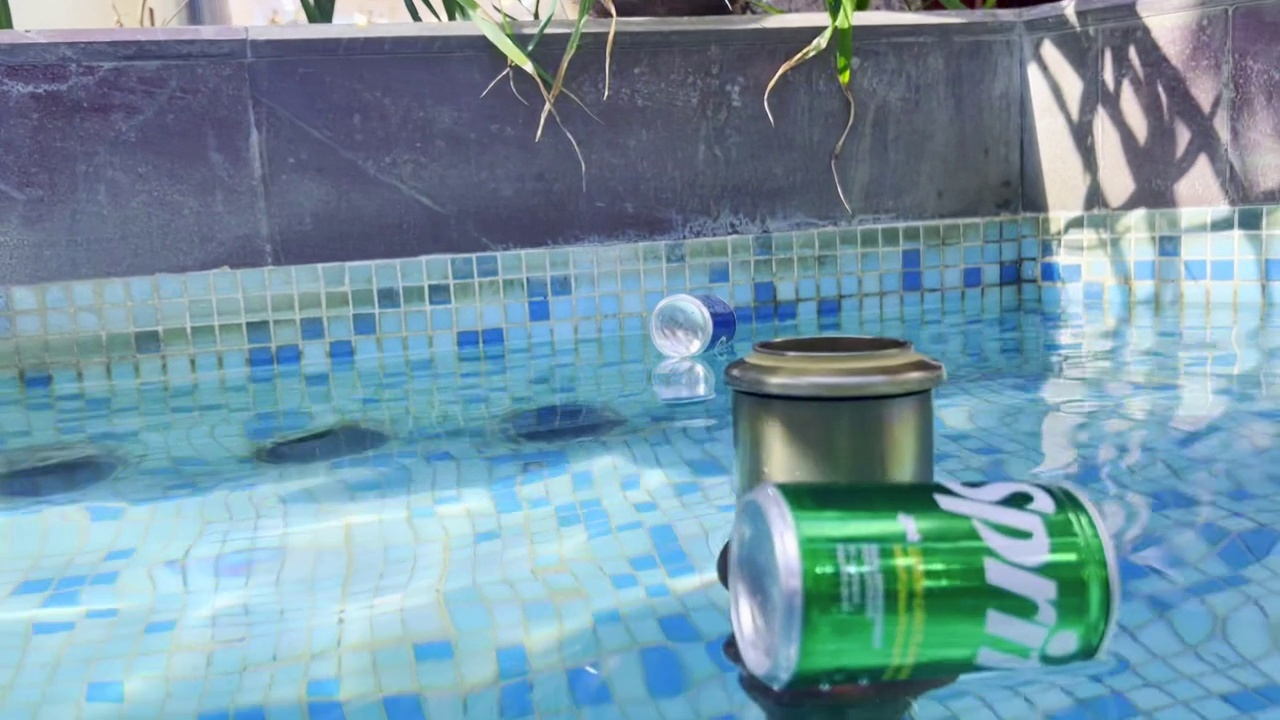debris: (710, 464, 1123, 692), (646, 281, 740, 360)
